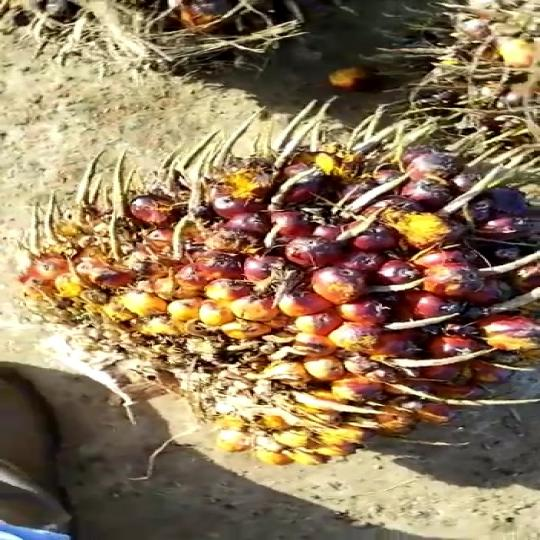masak: (10, 137, 540, 448)
